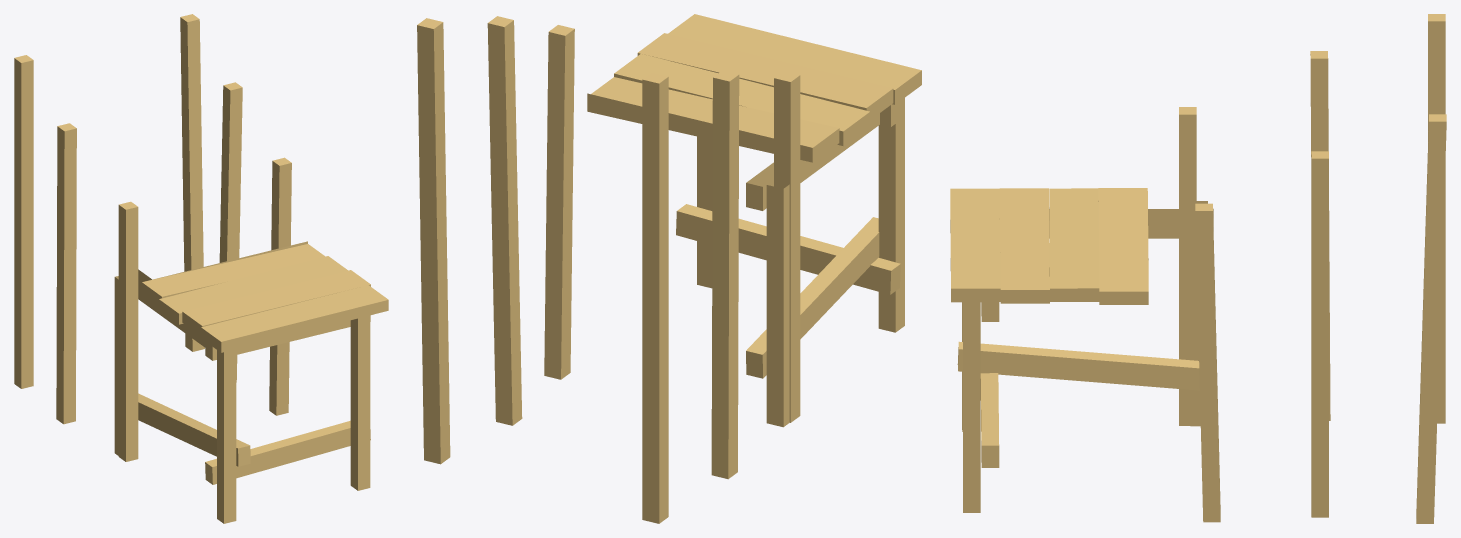
File: stairs002.fbx
The picture shows the model from 3 angles, left to right: view 1: azimuth 30°, elevation 25°; view 2: azimuth 150°, elevation 25°; view 3: azimuth 270°, elevation 25°; orthographic projection. The views are drawn at different scales.
Parts seen in each view (by area): view 1: MERDIVEN_002.002; view 2: MERDIVEN_002.002; view 3: MERDIVEN_002.002.
Boxes of the visible parts, bbox=[...] form: MERDIVEN_002.002: bbox=[14, 14, 388, 523]; MERDIVEN_002.002: bbox=[417, 14, 921, 523]; MERDIVEN_002.002: bbox=[950, 14, 1446, 523].
Bounding box in the file's own units: 655 × 1113 × 1245.
